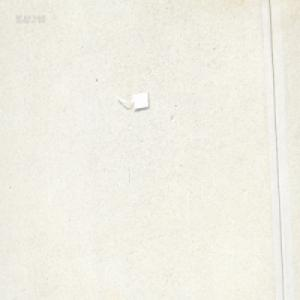LuggageTag: (114, 91, 149, 111)
